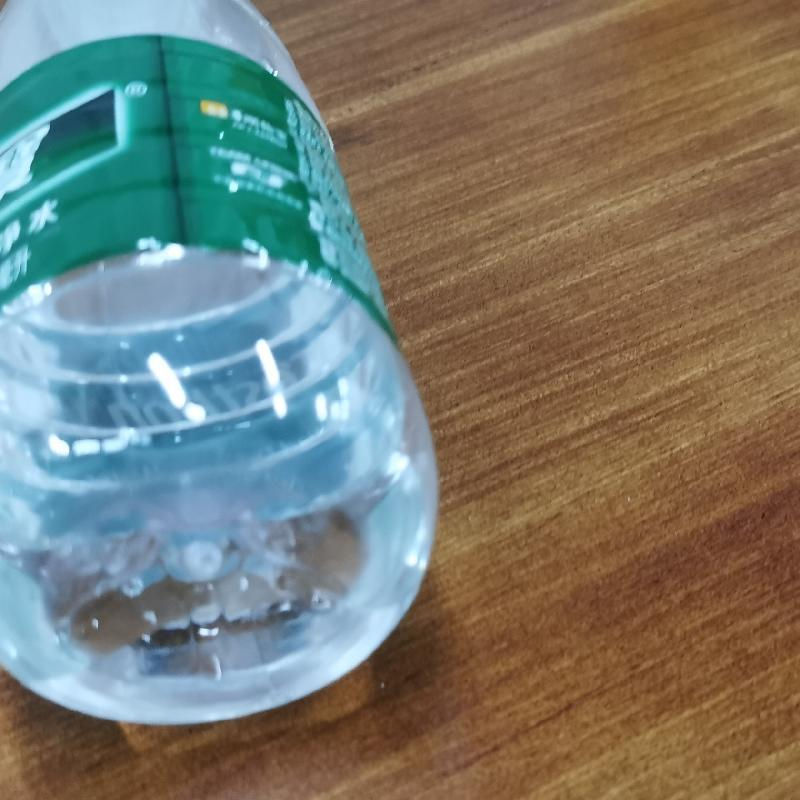bottles: (2, 0, 440, 726)
